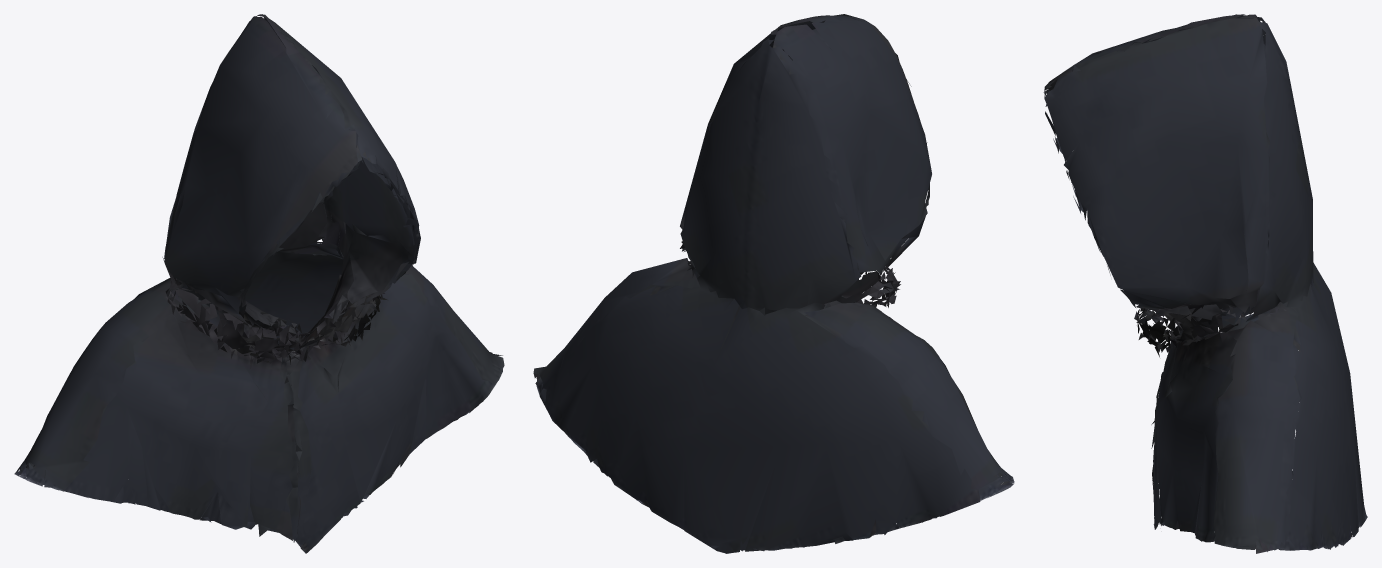
File: ranger_hood.glb
3 views of the same model, side by side, from view 1: azimuth 30°, elevation 25°; view 2: azimuth 150°, elevation 25°; view 3: azimuth 270°, elevation 25° (orthographic). The views are drawn at different scales.
Parts seen in each view (by area): view 1: RangerHood3; view 2: RangerHood3; view 3: RangerHood3.
Part boxes in pixels (x1,y1,x2,y2): RangerHood3: (14, 14, 504, 553); RangerHood3: (533, 14, 1014, 553); RangerHood3: (1043, 14, 1367, 553).
Size of the model in its own units: 0.42 by 0.415 by 0.2359.
Materials: 1 (1 with a texture image).
